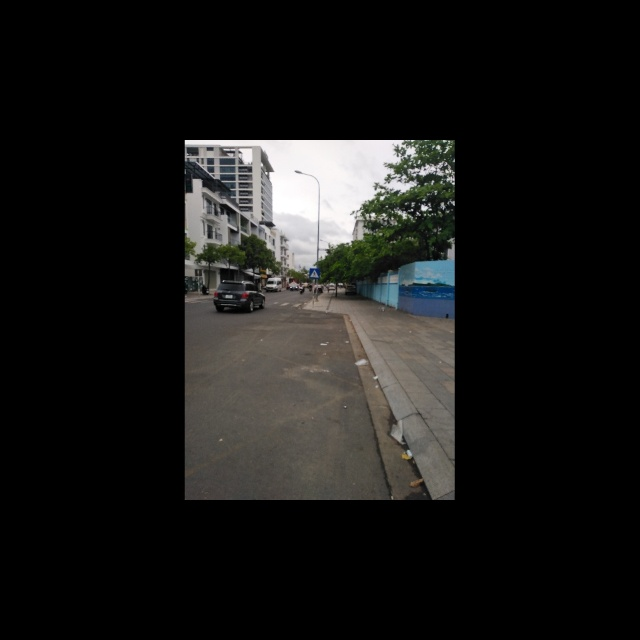Đường dành cho người đi bộ: (309, 268, 320, 279)
